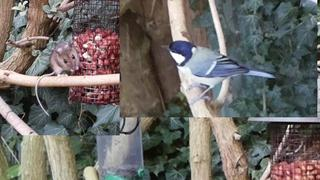great tit: (160, 40, 277, 106)
mouse: (34, 40, 80, 118)
